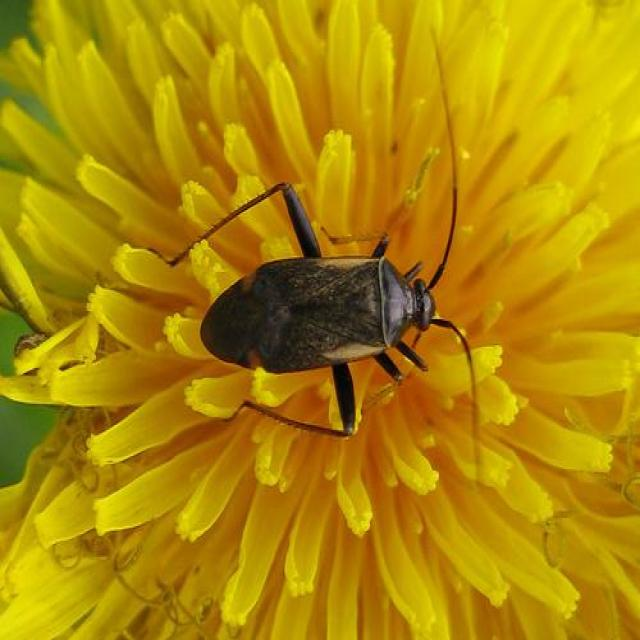Miridae-Adult-: (155, 100, 507, 456)
